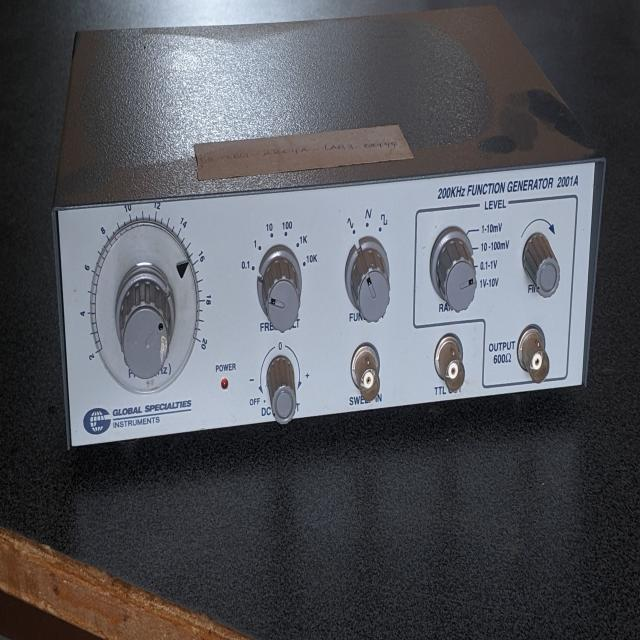A 200KHZ Function Generator: (45, 15, 612, 460)
